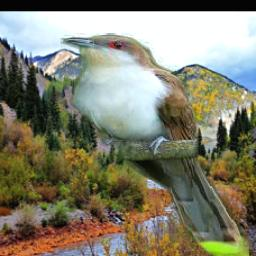Cuckoo: (61, 34, 249, 256)
